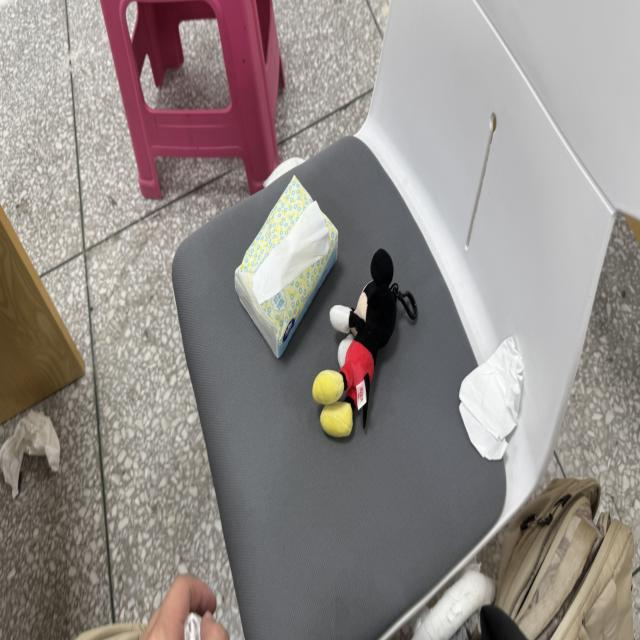mickey: (313, 249, 417, 437)
tissue: (235, 177, 338, 357), (252, 202, 329, 304), (460, 338, 523, 459), (0, 411, 60, 498), (460, 403, 508, 459), (185, 613, 201, 639)
